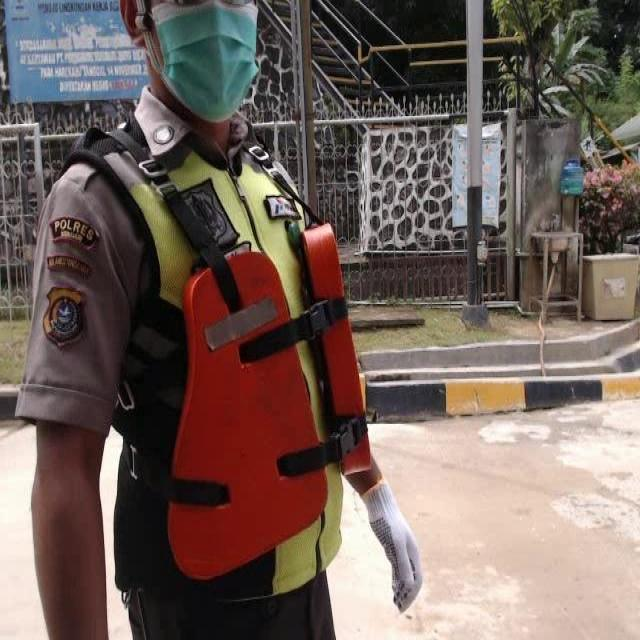Vest: (162, 216, 369, 583)
